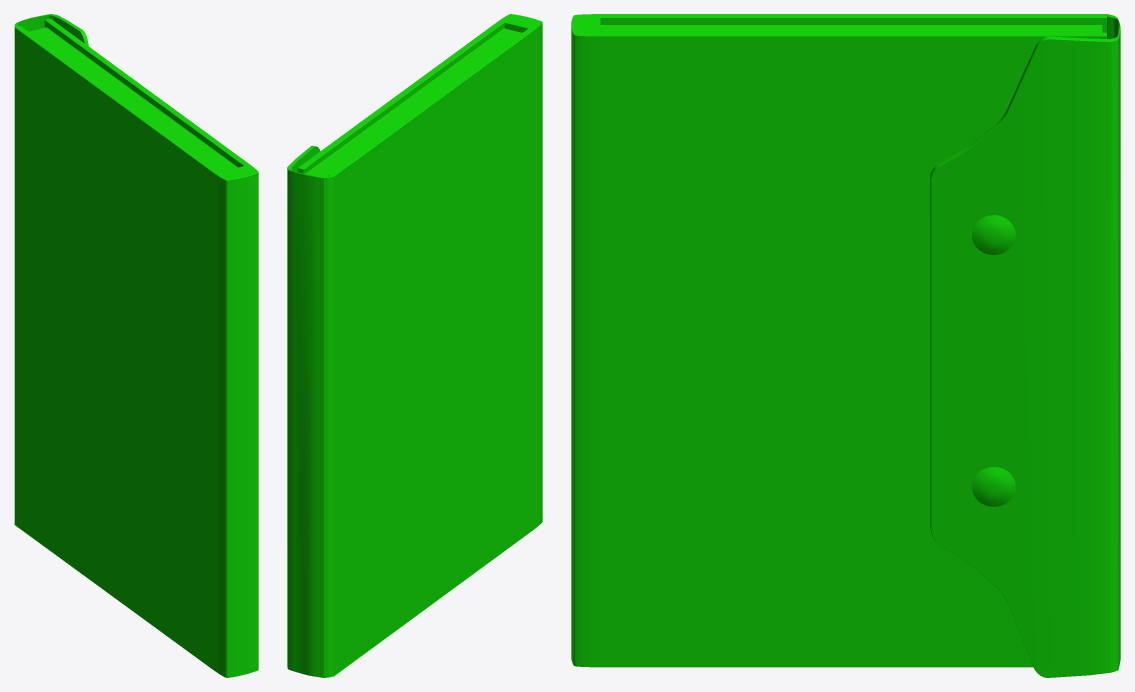
Rendered from Bloknot_Low.fbx.
The picture shows the model from 3 angles, left to right: view 1: azimuth 30°, elevation 25°; view 2: azimuth 150°, elevation 25°; view 3: azimuth 270°, elevation 25°; orthographic projection. The views are drawn at different scales.
Visible parts, largest first — view 1: Bloknot_Low; view 2: Bloknot_Low; view 3: Bloknot_Low.
Part boxes in pixels (x1,y1,x2,y2): Bloknot_Low: (14,14,258,677); Bloknot_Low: (287,14,542,677); Bloknot_Low: (571,14,1120,677).
Bounding box in the file's own units: 2.26 × 22.07 × 17.2.
